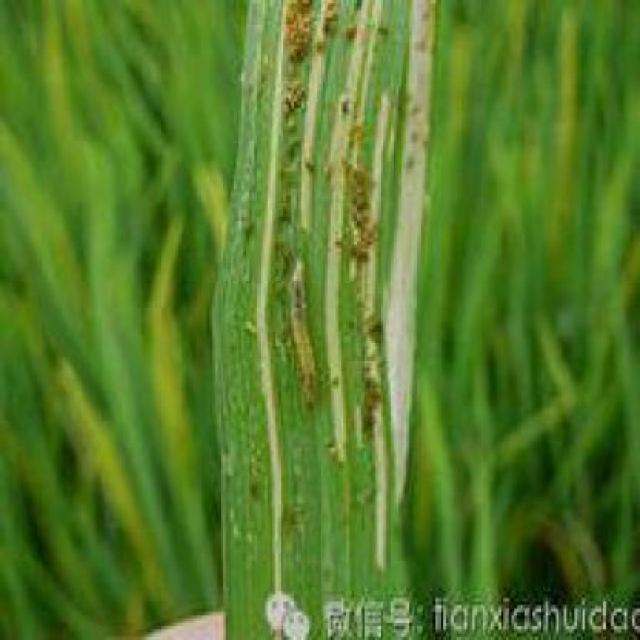leaf-folder: (272, 240, 332, 414)
